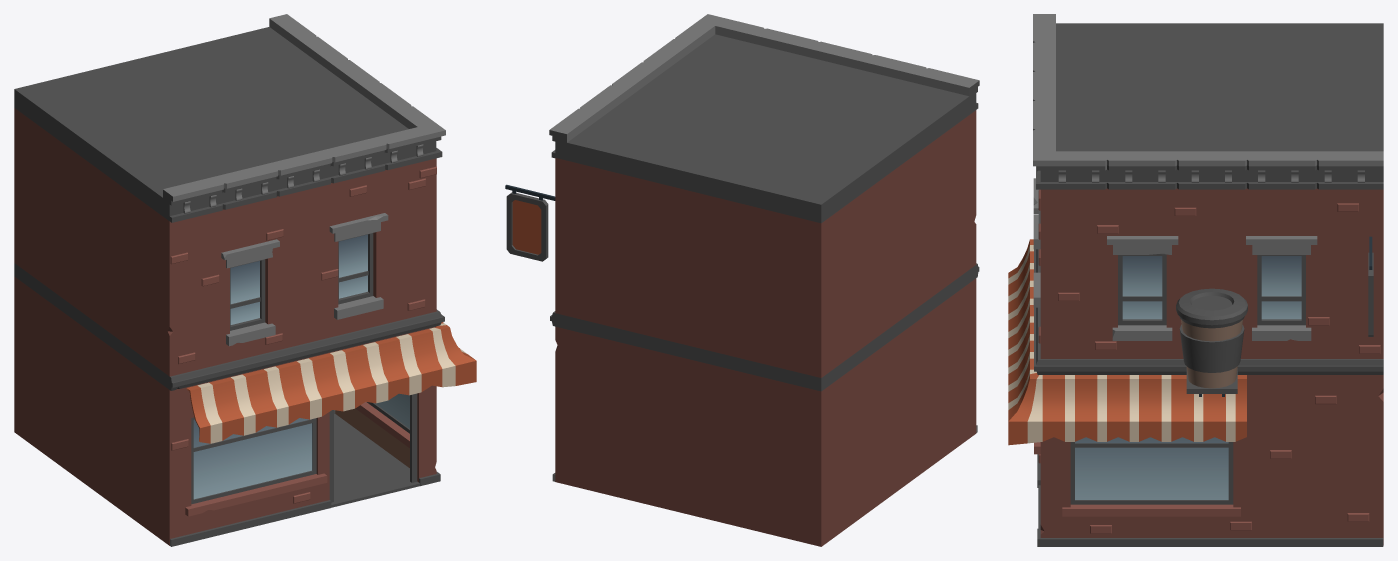
File: SM_Buildings_House_15_V2.fbx
3 renders of one model, left to right at view 1: azimuth 30°, elevation 25°; view 2: azimuth 150°, elevation 25°; view 3: azimuth 270°, elevation 25°, orthographic. The views are drawn at different scales.
Parts seen in each view (by area): view 1: SM_Buildings_House_15_V2; view 2: SM_Buildings_House_15_V2; view 3: SM_Buildings_House_15_V2.
Part boxes in pixels (bbox=[...]): SM_Buildings_House_15_V2: bbox=[14, 14, 476, 546]; SM_Buildings_House_15_V2: bbox=[505, 14, 979, 546]; SM_Buildings_House_15_V2: bbox=[1008, 14, 1383, 546].
Size of the model in its own units: 6.39 by 6.49 by 5.69.
